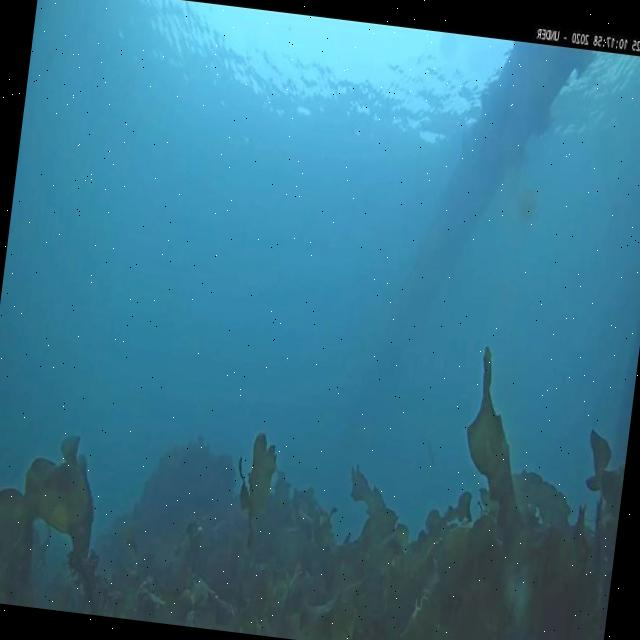fish: (420, 436, 441, 464)
